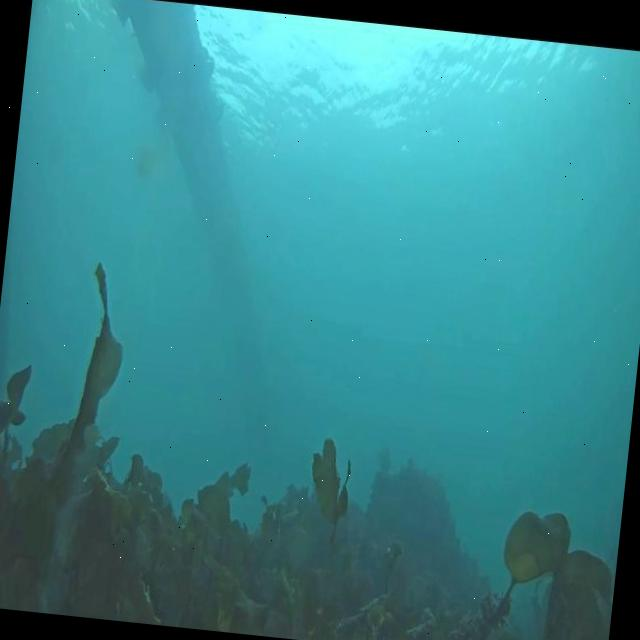fish: (375, 442, 392, 474)
